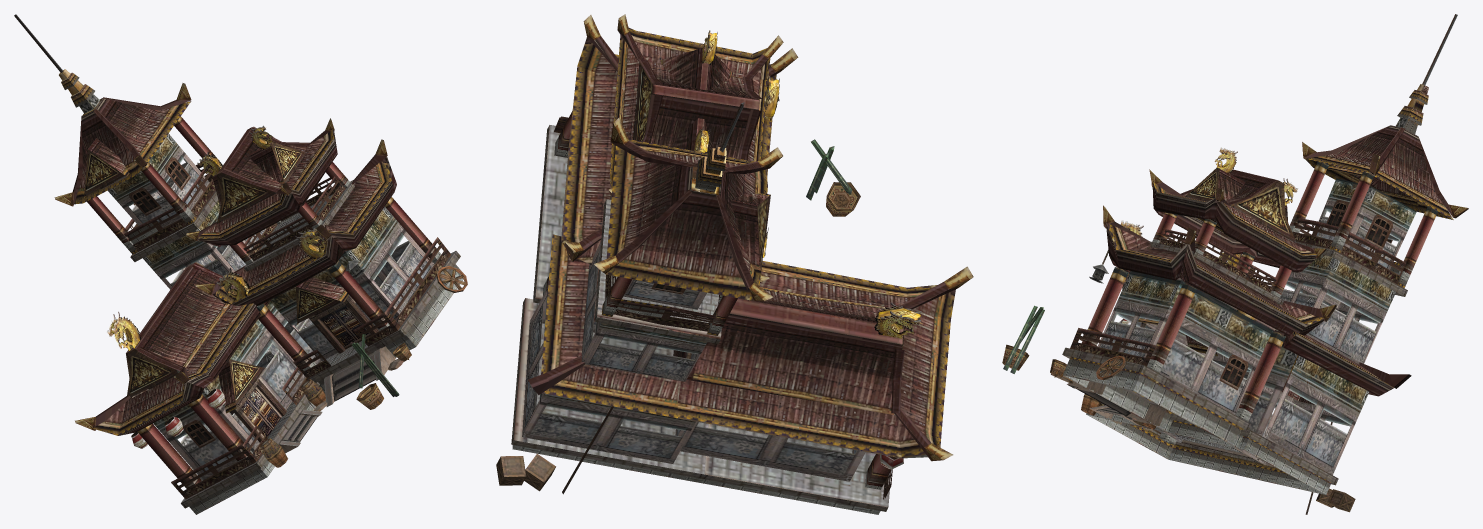
The model's file is china_towncenter.fbx.
3 renders of one model, left to right at view 1: azimuth 30°, elevation 25°; view 2: azimuth 150°, elevation 25°; view 3: azimuth 270°, elevation 25°, orthographic. The views are drawn at different scales.
Parts seen in each view (by area): view 1: Object01, Object03, Object02; view 2: Object01, Object03, Object02; view 3: Object01, Object03, Object02.
Boxes of the visible parts, <box> form: Object01: <box>54,69,463,514</box>; Object03: <box>107,133,434,480</box>; Object02: <box>14,14,467,467</box>; Object01: <box>511,14,973,514</box>; Object03: <box>522,242,865,481</box>; Object02: <box>496,102,903,494</box>; Object01: <box>1062,84,1468,494</box>; Object03: <box>1097,178,1416,475</box>; Object02: <box>1002,14,1457,514</box>.
Size of the model in its own units: 12.39 by 14.17 by 14.23.
Materials: 2 (2 with a texture image).
